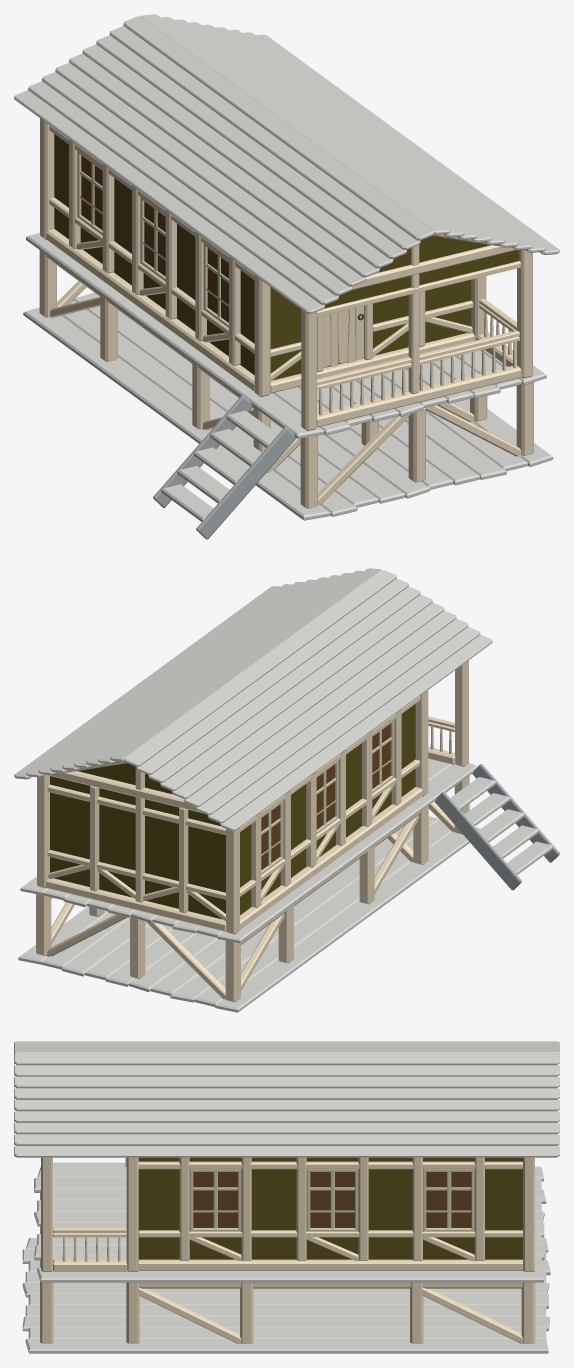
Rendered from farmstractures_18.gltf.
The picture shows the model from 3 angles, top to bottom: view 1: azimuth 30°, elevation 25°; view 2: azimuth 150°, elevation 25°; view 3: azimuth 270°, elevation 25°; orthographic projection. The views are drawn at different scales.
Visible parts, largest first — view 1: blades, body; view 2: blades, body; view 3: blades, body.
Part boxes in pixels (x1=…): blades: x1=14, y1=14, x2=558, y2=429; body: x1=14, y1=16, x2=559, y2=539; blades: x1=15, y1=568, x2=492, y2=933; body: x1=14, y1=569, x2=559, y2=1012; blades: x1=15, y1=1041, x2=558, y2=1271; body: x1=14, y1=1042, x2=559, y2=1353.
Size of the model in its own units: 6.6 by 4.91 by 9.77.
Materials: 1 (1 with a texture image).
